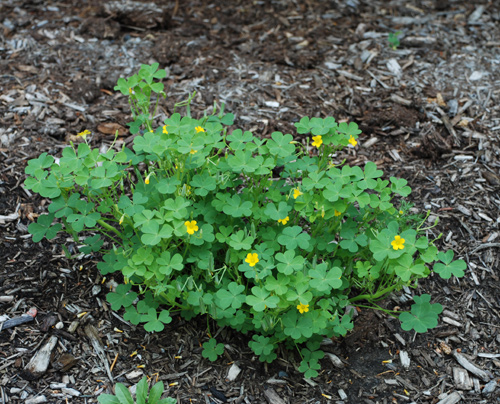oxalis: (56, 100, 434, 365)
